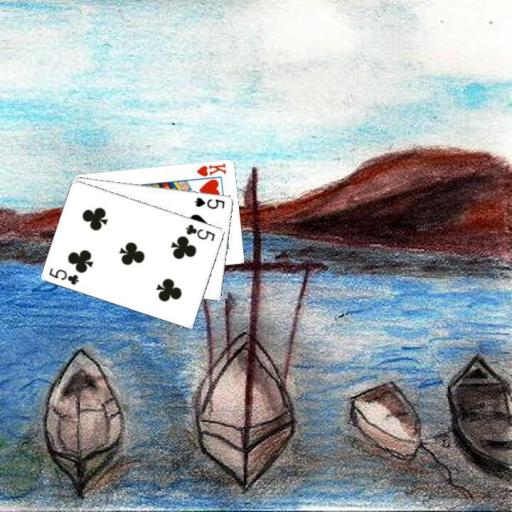5C: (183, 221, 217, 243), (47, 265, 81, 287)
5S: (192, 194, 227, 211)
KH: (194, 160, 228, 178)
